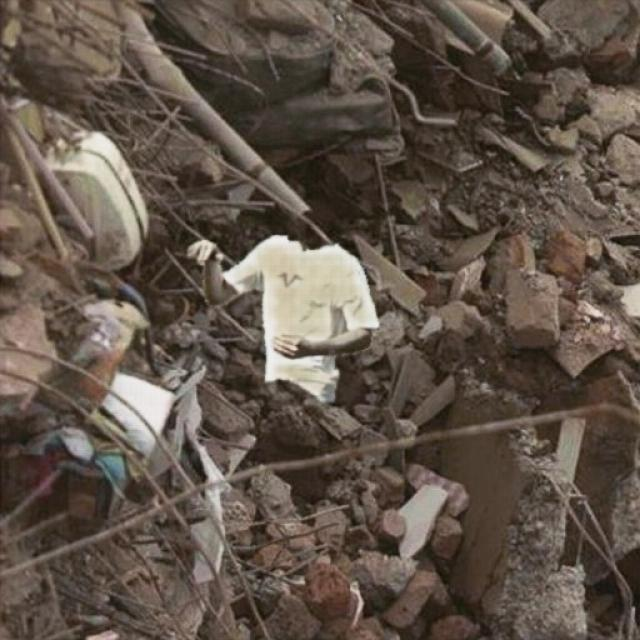Person in Rubble: (188, 235, 378, 401)
